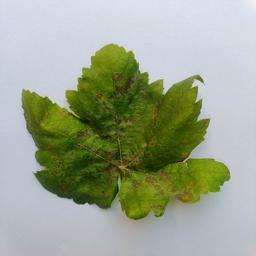Powdery-Mildew: (145, 170, 197, 200), (112, 101, 159, 133), (106, 70, 138, 101), (73, 126, 100, 150), (100, 48, 117, 65), (48, 110, 64, 127), (202, 165, 219, 181)
